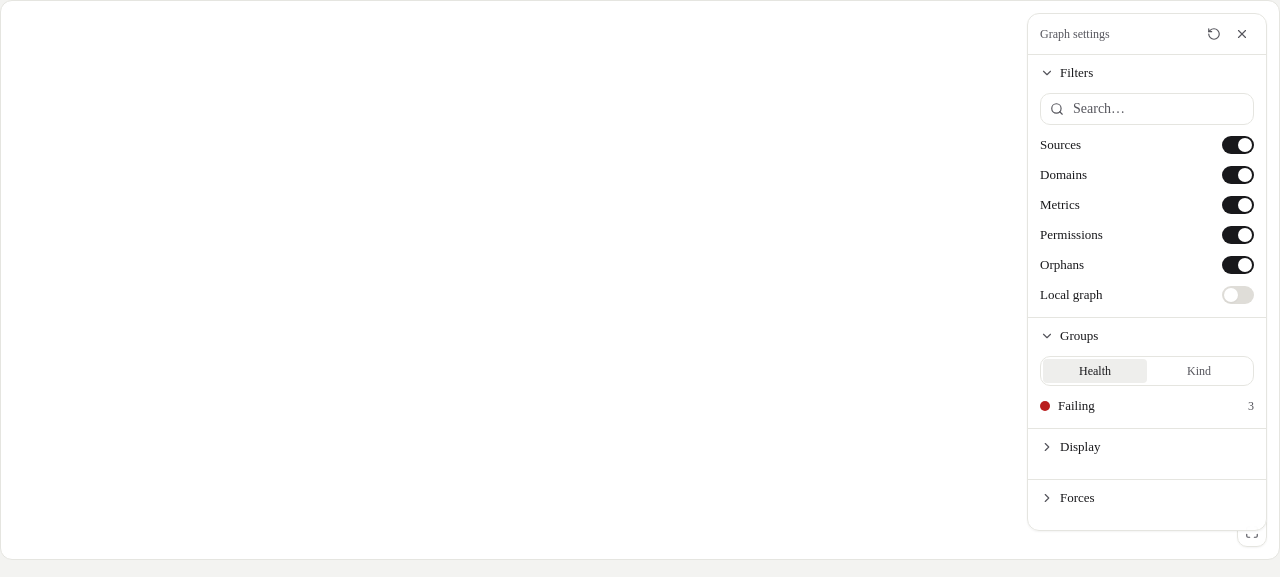
NetworkExplorer › switches colour groups and counts each group's nodes
This screenshot has width=1280, height=577.
Expected: the text "3" is shown, [1248,398,1254,414]
Click the radio button labelled "Kind" at (1199, 371), box [1147,359,1251,383]
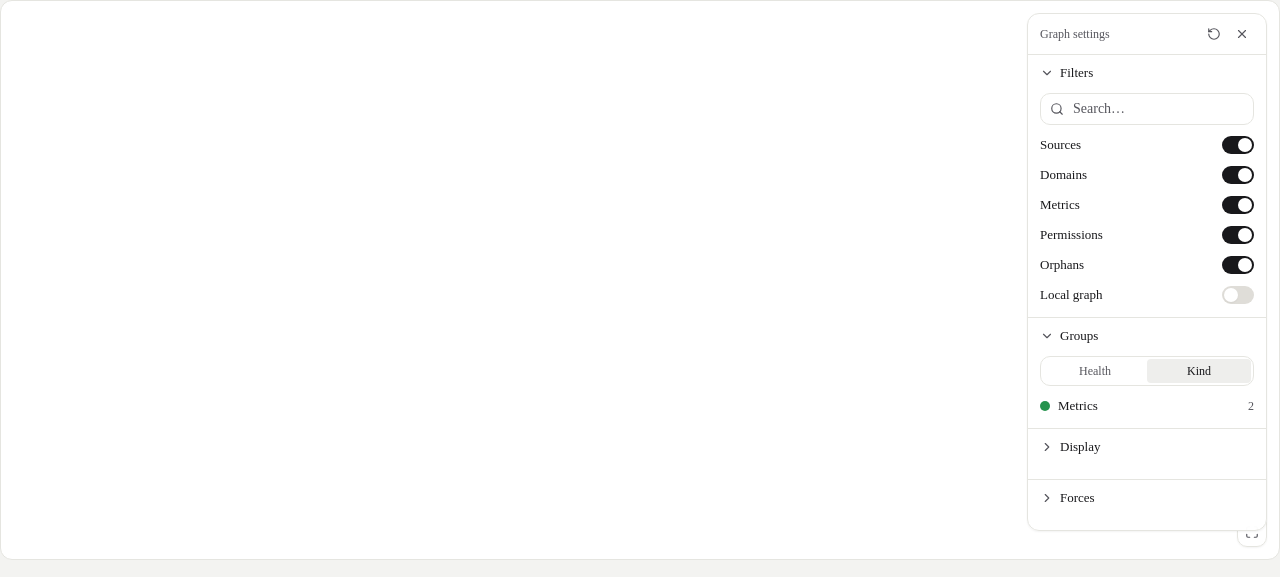
Expected: the text "2" is shown, [1248,398,1254,414]
